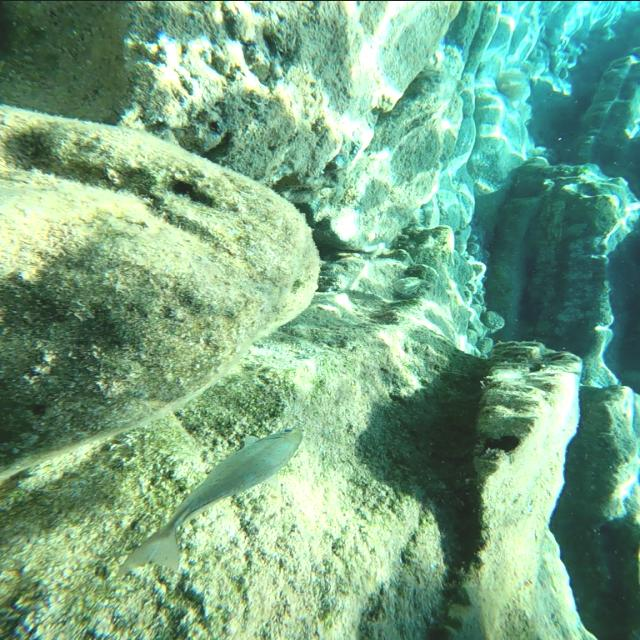Sokar Baligi: (110, 418, 316, 582)
